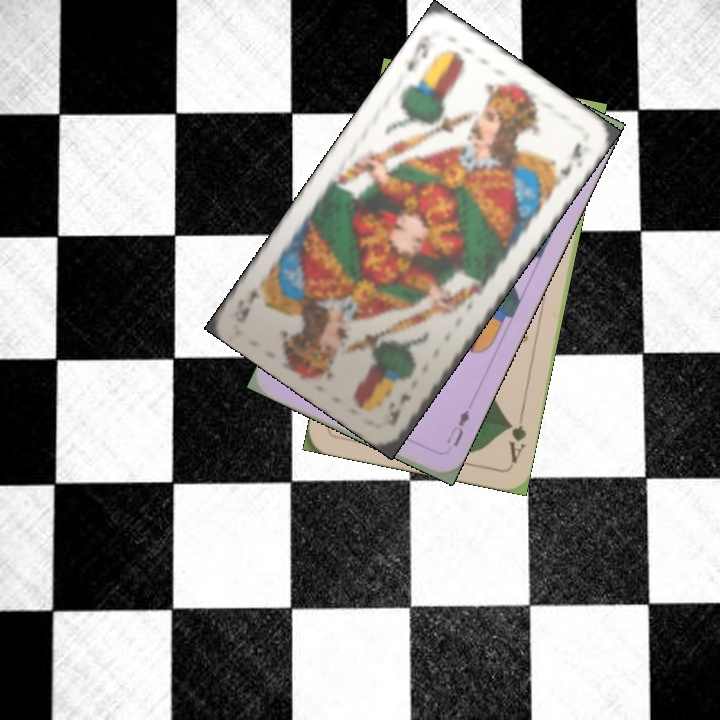EK: (402, 30, 439, 75), (380, 389, 414, 428)
EU: (442, 405, 472, 449)
GA: (504, 408, 529, 466)
